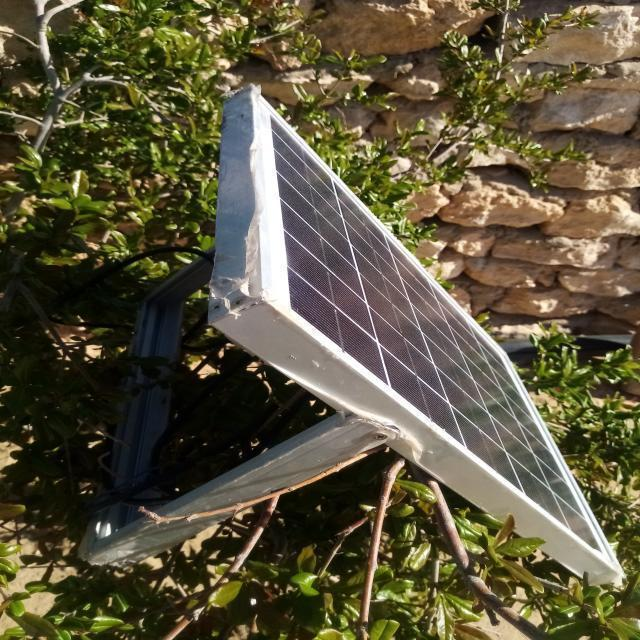Normal Solar Panel: (258, 89, 619, 568)
